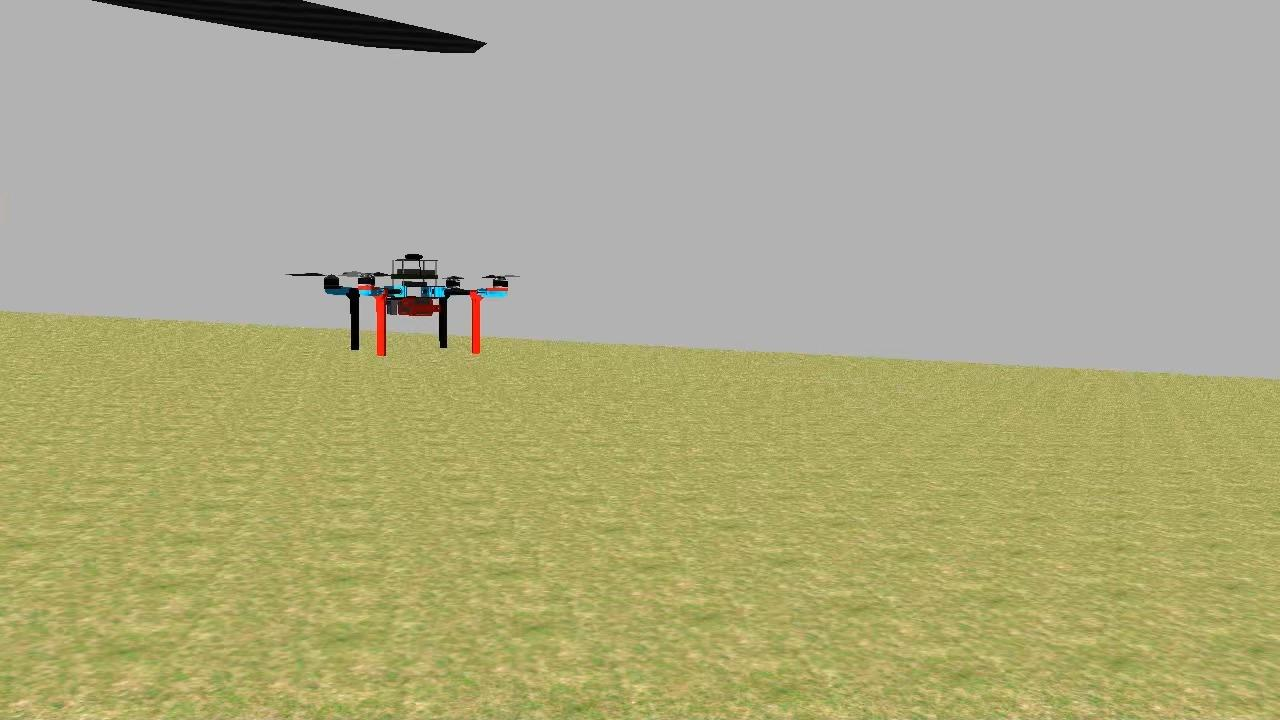UAV: (322, 246, 516, 364)
